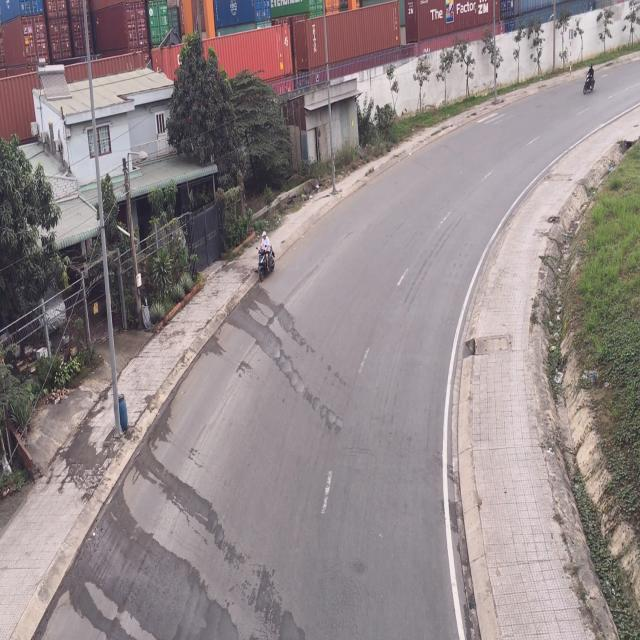motorbike: (258, 232, 277, 282), (583, 61, 597, 95)
